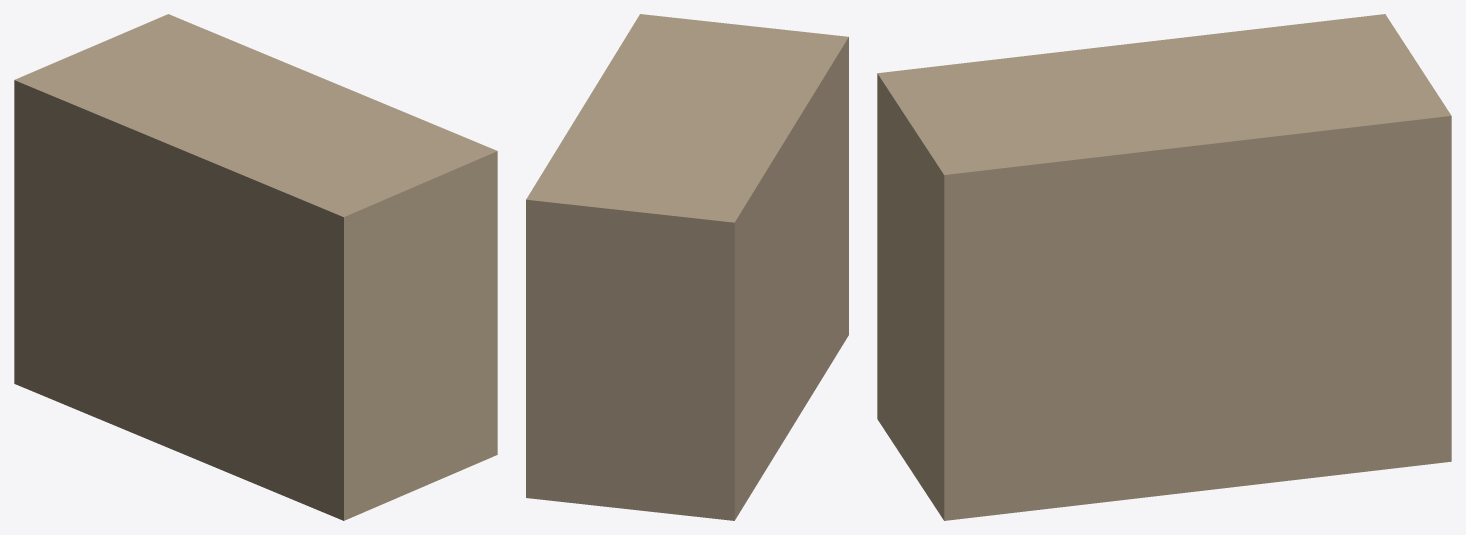
File: bld_101562342.dae
The picture shows the model from 3 angles, left to right: view 1: azimuth 30°, elevation 25°; view 2: azimuth 150°, elevation 25°; view 3: azimuth 270°, elevation 25°; orthographic projection. The views are drawn at different scales.
Visible parts, largest first — view 1: bld_101562342; view 2: bld_101562342; view 3: bld_101562342.
Boxes of the visible parts, x1,y1,x2,y2 form: bld_101562342: [14, 14, 497, 520]; bld_101562342: [526, 14, 848, 520]; bld_101562342: [877, 14, 1451, 520].
Size of the model in its own units: 7.99 by 12.04 by 8.
